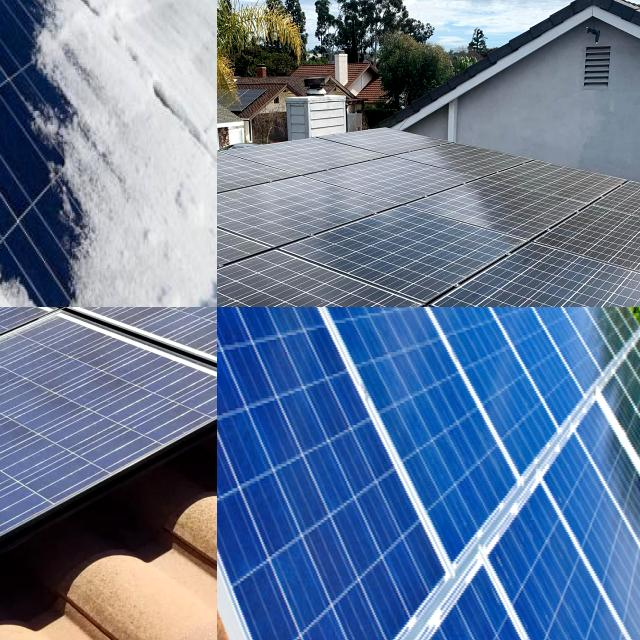crack: (217, 307, 640, 629), (352, 307, 640, 640), (361, 307, 562, 393), (257, 307, 387, 361)
dust: (0, 348, 118, 475), (0, 381, 63, 570), (82, 307, 217, 374), (0, 307, 63, 373)
panel: (70, 111, 174, 298), (5, 0, 165, 112), (0, 31, 64, 307), (0, 0, 53, 307), (0, 0, 148, 70), (164, 0, 217, 152), (171, 169, 217, 307), (155, 0, 217, 86), (0, 249, 86, 307), (0, 0, 13, 159)
